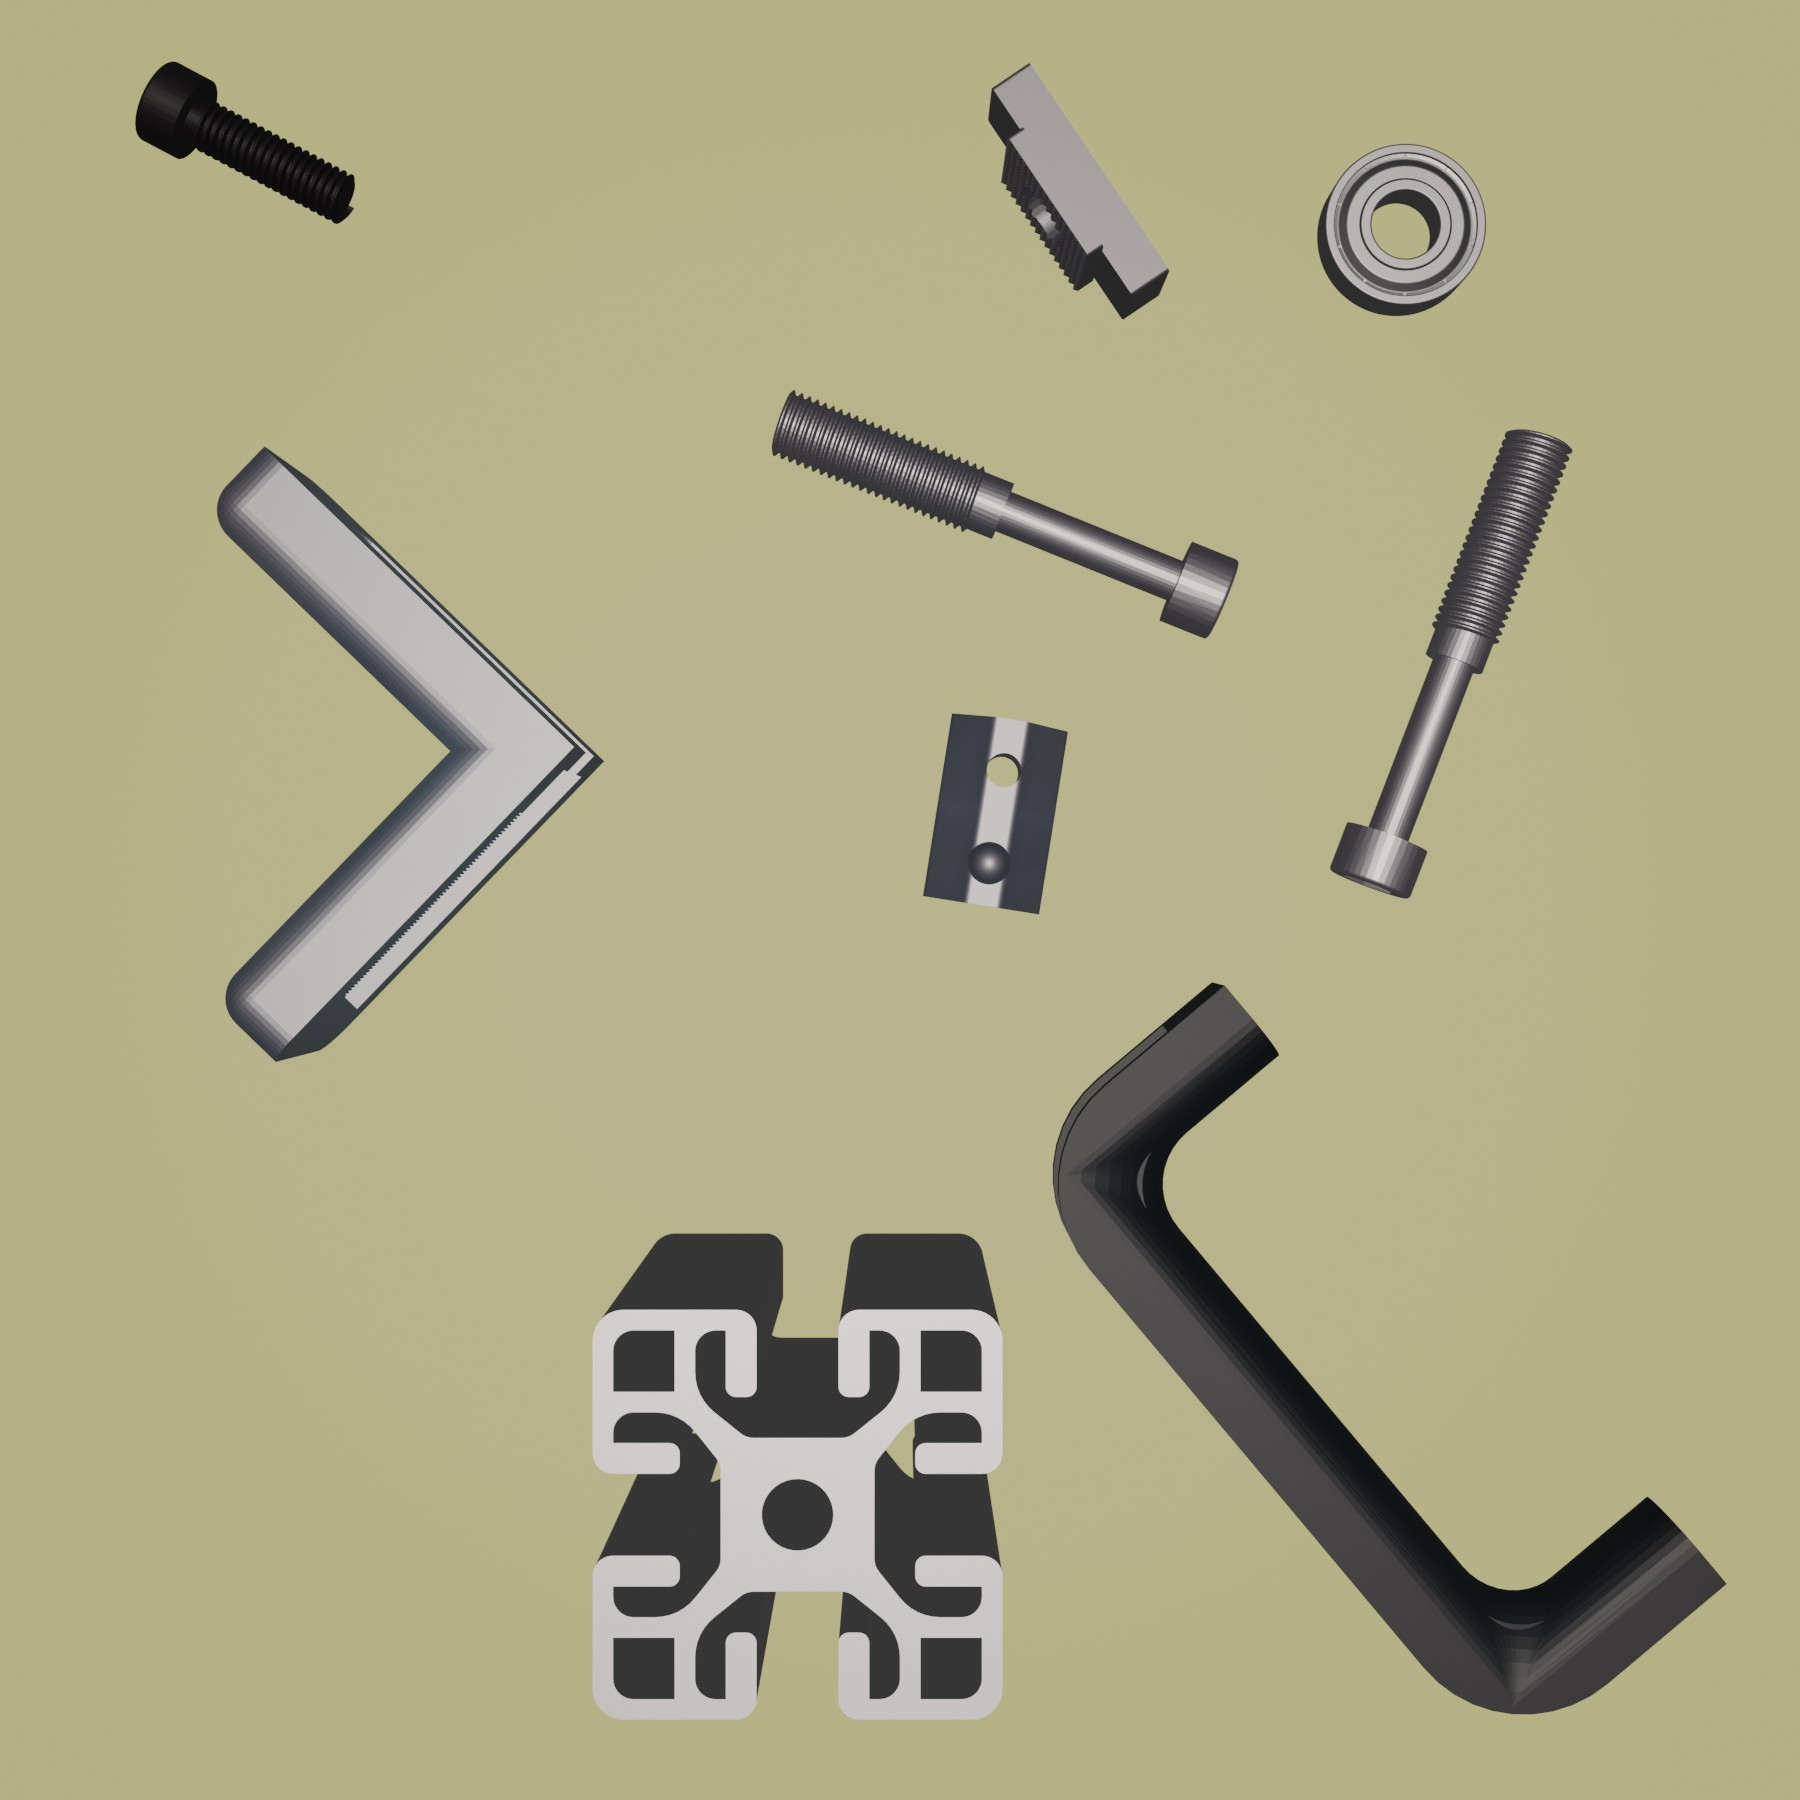Aluminium Extension: (587, 1226, 1010, 1727)
Ball Bearing: (1312, 138, 1490, 318)
Multiwinkel: (213, 445, 608, 1063)
Pull Handle: (1048, 977, 1727, 1716)
Shoulder Socket Head Cap Screw: (1325, 424, 1579, 903), (770, 386, 1240, 641)
Socket Head Cap Screw: (134, 54, 359, 227)
T Nut Square: (982, 59, 1170, 323)
T Spring Nut: (921, 709, 1070, 916)
